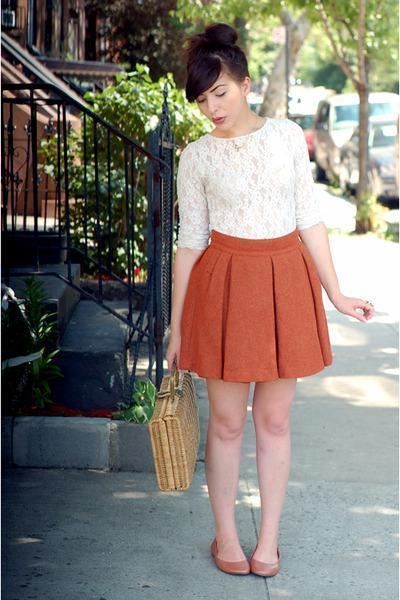bag: (137, 372, 196, 488)
shirt: (176, 108, 324, 249)
shoe: (218, 536, 277, 573)
skirt: (172, 228, 331, 387)
